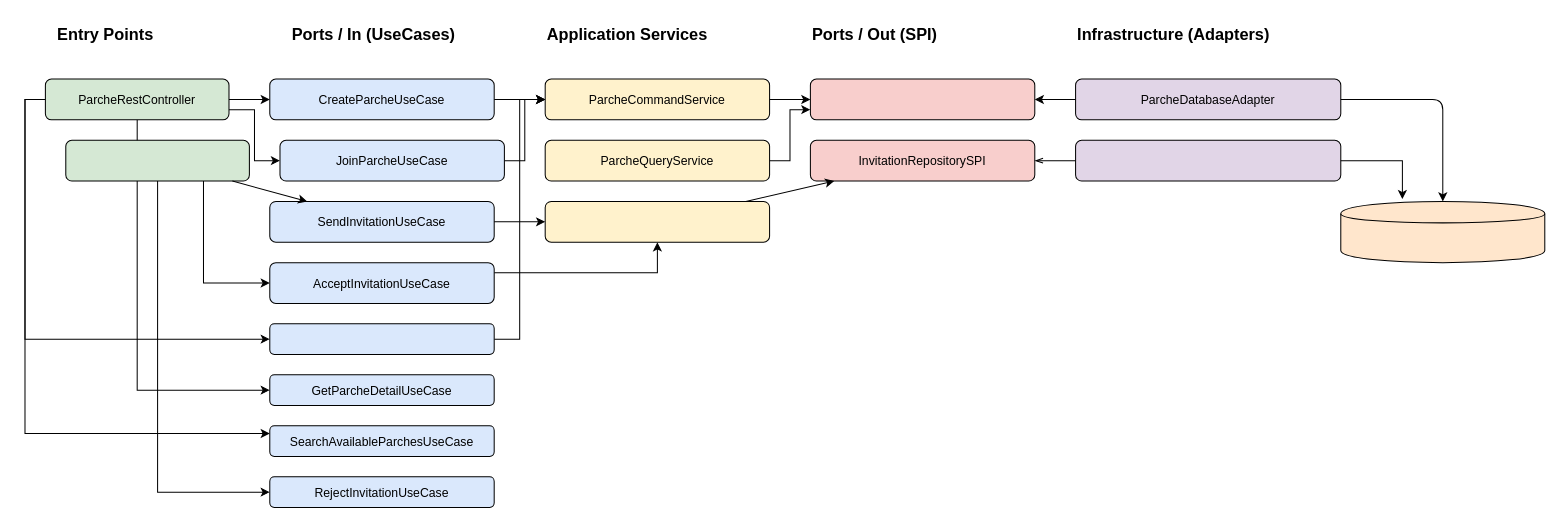
The diagram is 1563 pixels wide and 525 high, and some of its shapes have lost their labels. The shapes that lost their labels are listed below. From the top down, each one's centre as x and y in pixels, then its label:
At point (922, 99): "ParcheRepositorySPI".
At point (157, 160): "InvitationRestController".
At point (1208, 160): "InvitationDatabaseAdapter".
At point (657, 221): "InvitationApplicationService".
At point (1442, 231): "PostgreSQL".
At point (381, 338): "LeaveParcheUseCase".
